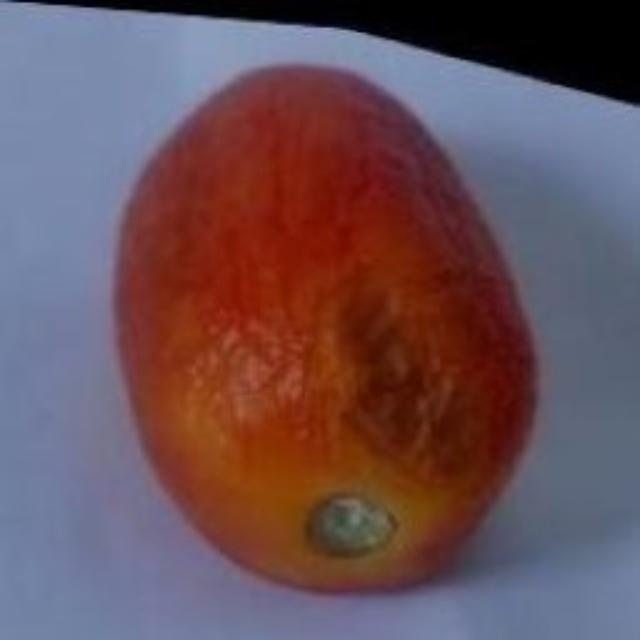defect: (111, 62, 542, 598)
